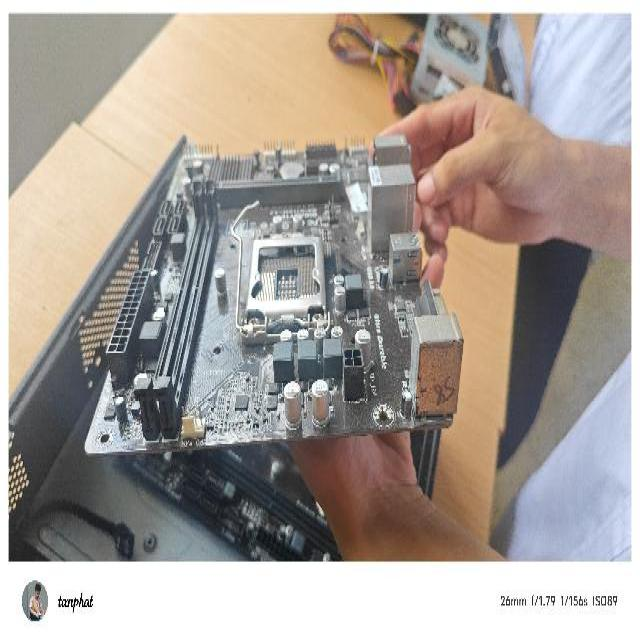Mainboard: (73, 124, 463, 460)
